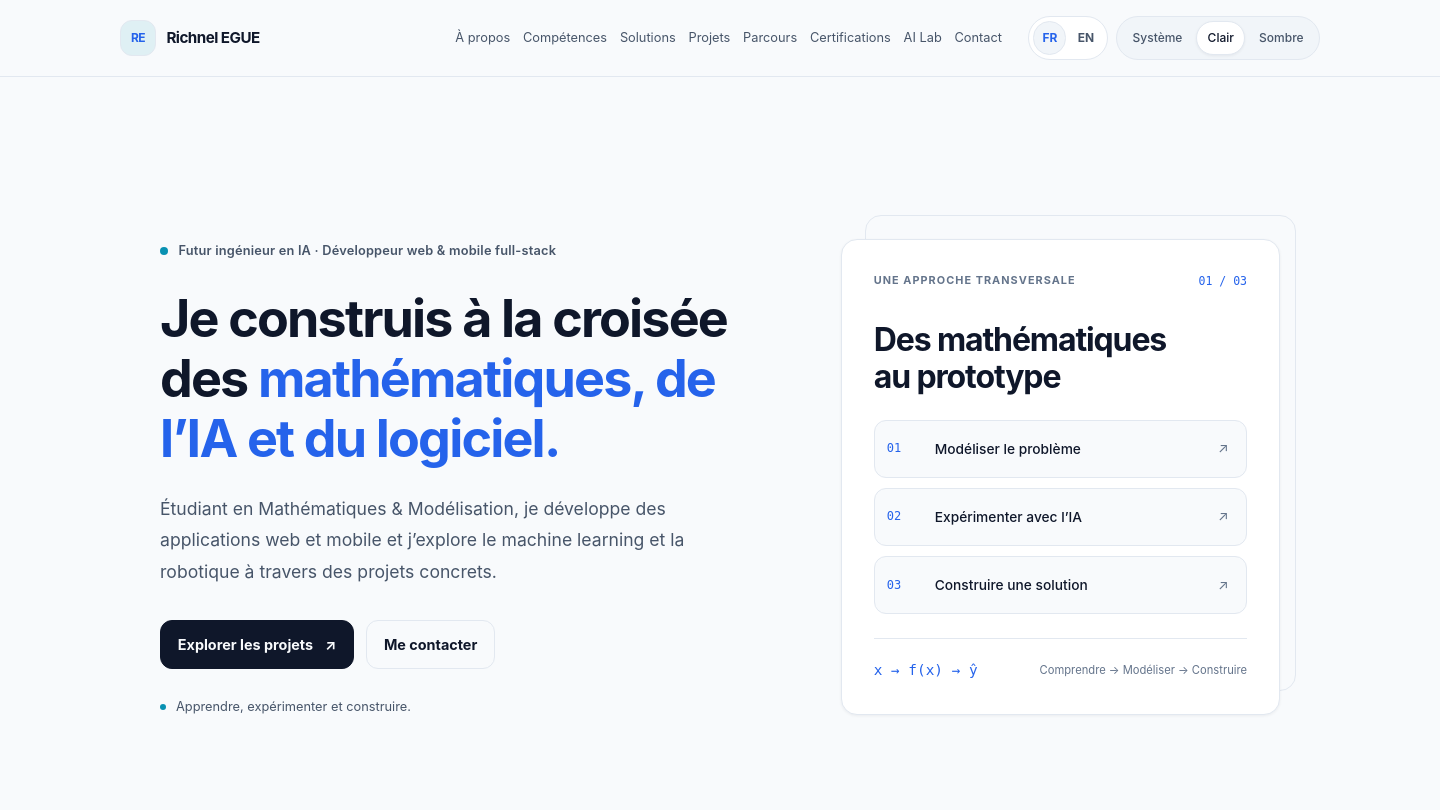
Test: renders the skills section in French and English
Click the button with aria-label "Passer en anglais" at (1086, 38), box left=1069, top=21, right=1103, bottom=55
(page scrolled)
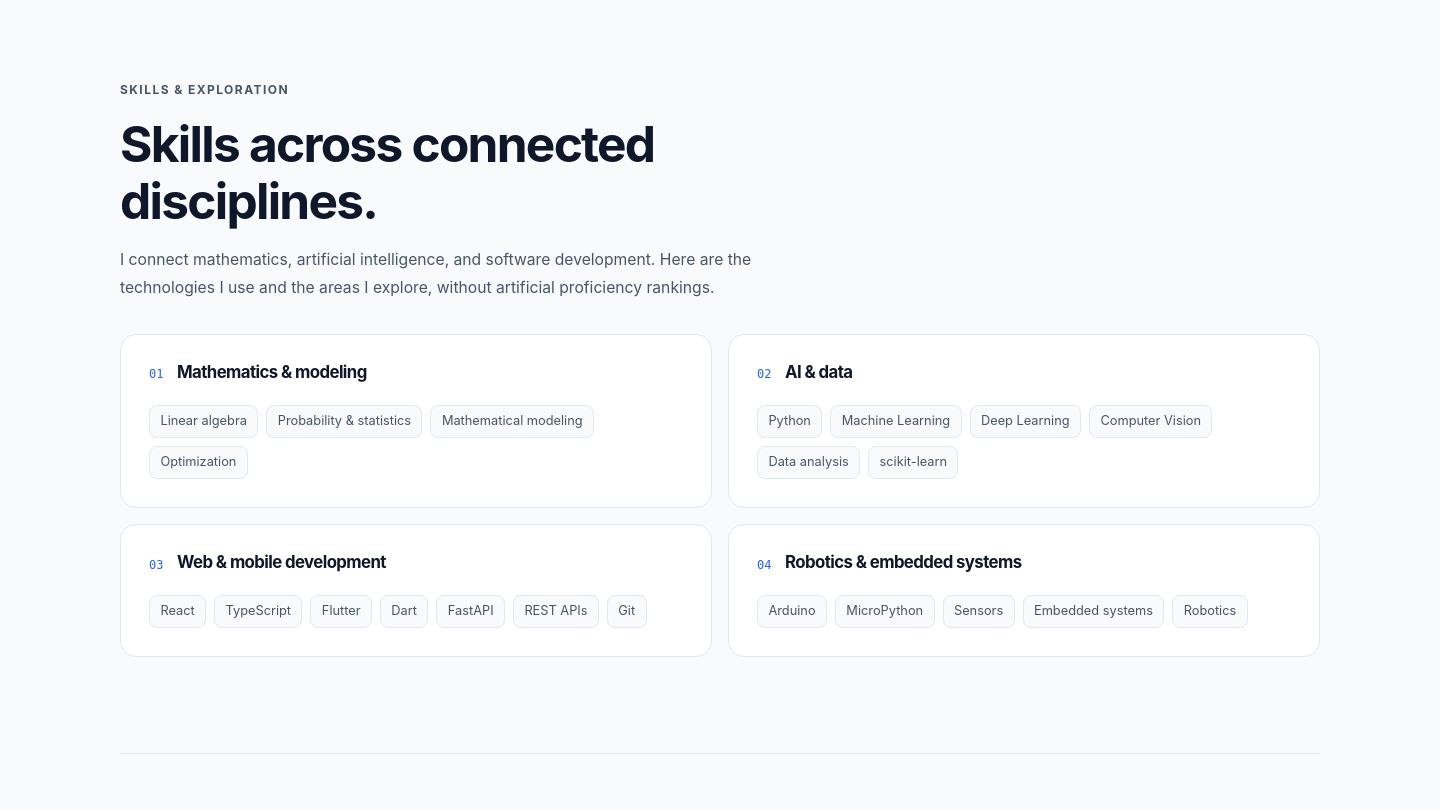
expect the heading "Skills across connected disciplines." is shown: met, box left=120, top=114, right=654, bottom=230
expect the list item "Linear algebra" is shown: met, box left=149, top=405, right=258, bottom=438
expect the list item "Computer Vision" is shown: met, box left=1089, top=405, right=1212, bottom=438
